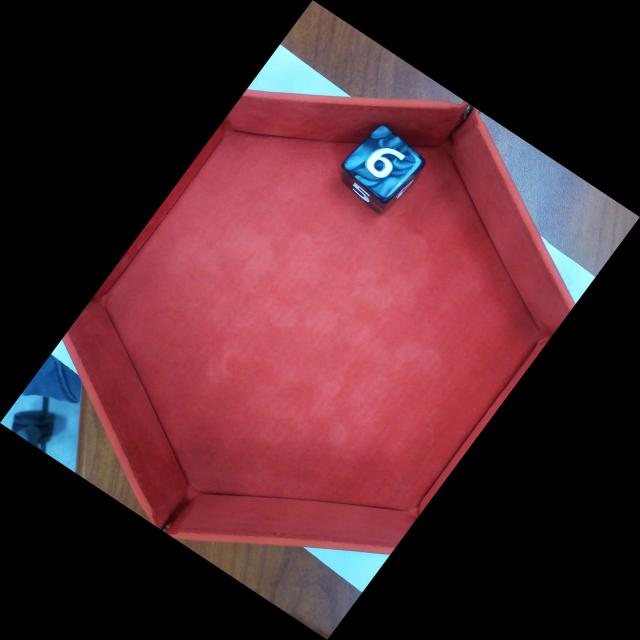dice: (344, 125, 420, 196)
